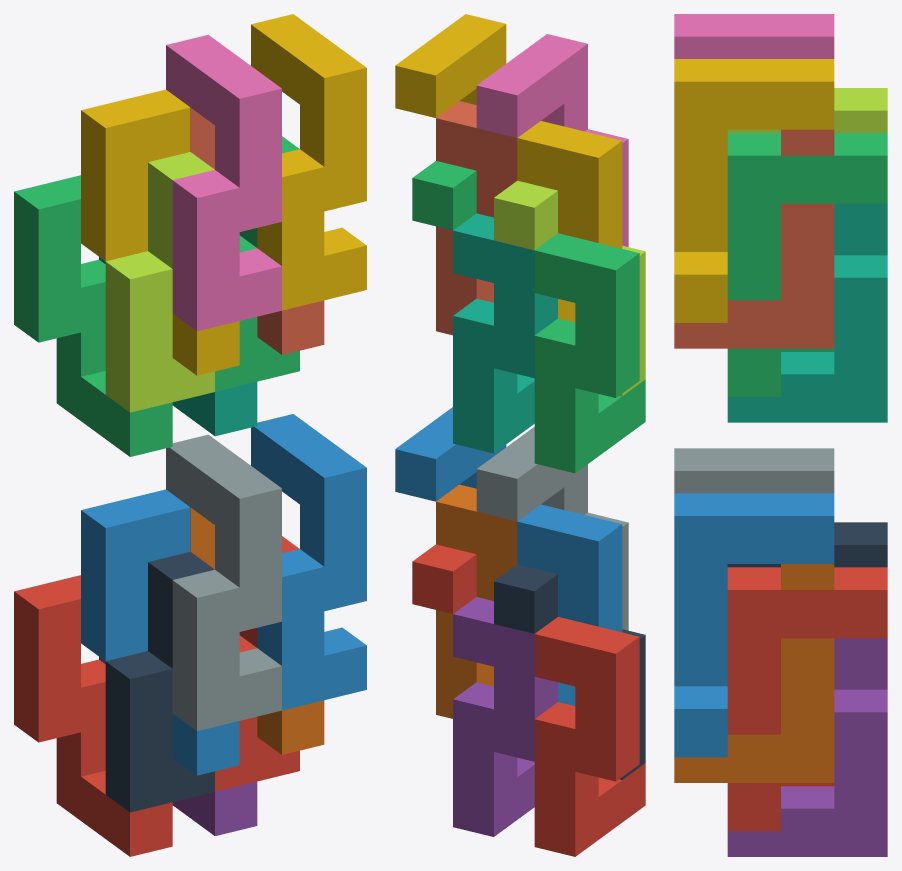
The model's file is tiling.obj.
3 views of the same model, side by side, from view 1: azimuth 30°, elevation 25°; view 2: azimuth 150°, elevation 25°; view 3: azimuth 270°, elevation 25° (orthographic). The views are drawn at different scales.
Visible parts, largest first — view 1: copy_2_domain_4, copy_2_domain_2, copy_2_domain_8, copy_2_domain_6, copy_1_domain_3, copy_1_domain_1, copy_1_domain_4, copy_1_domain_2, copy_2_domain_3, copy_2_domain_1, copy_1_domain_8, copy_1_domain_6 (+4 smaller); view 2: copy_1_domain_1, copy_1_domain_3, copy_1_domain_7, copy_1_domain_5, copy_1_domain_4, copy_1_domain_2, copy_2_domain_4, copy_1_domain_6, copy_1_domain_8, copy_2_domain_8, copy_2_domain_2, copy_2_domain_6 (+4 smaller); view 3: copy_2_domain_6, copy_2_domain_8, copy_2_domain_5, copy_2_domain_7, copy_1_domain_7, copy_1_domain_5, copy_1_domain_8, copy_1_domain_6, copy_2_domain_2, copy_2_domain_4, copy_2_domain_1, copy_2_domain_3.
Part boxes in pixels (x1=…): copy_2_domain_4: x1=166, y1=34, x2=281, y2=331; copy_2_domain_2: x1=166, y1=434, x2=281, y2=731; copy_2_domain_8: x1=251, y1=14, x2=366, y2=310; copy_2_domain_6: x1=251, y1=414, x2=366, y2=710; copy_1_domain_3: x1=14, y1=175, x2=172, y2=456; copy_1_domain_1: x1=14, y1=575, x2=172, y2=856; copy_1_domain_4: x1=81, y1=89, x2=239, y2=375; copy_1_domain_2: x1=81, y1=489, x2=239, y2=775; copy_2_domain_3: x1=105, y1=152, x2=214, y2=412; copy_2_domain_1: x1=105, y1=552, x2=214, y2=812; copy_1_domain_8: x1=190, y1=108, x2=324, y2=354; copy_1_domain_6: x1=190, y1=508, x2=324, y2=754; copy_1_domain_1: x1=534, y1=617, x2=645, y2=856; copy_1_domain_3: x1=534, y1=233, x2=645, y2=473; copy_1_domain_7: x1=453, y1=213, x2=557, y2=453; copy_1_domain_5: x1=453, y1=597, x2=557, y2=836; copy_1_domain_4: x1=517, y1=121, x2=622, y2=322; copy_1_domain_2: x1=517, y1=504, x2=622, y2=705; copy_2_domain_4: x1=476, y1=34, x2=628, y2=246; copy_1_domain_6: x1=436, y1=484, x2=517, y2=718; copy_1_domain_8: x1=436, y1=101, x2=517, y2=335; copy_2_domain_8: x1=395, y1=14, x2=506, y2=117; copy_2_domain_2: x1=476, y1=427, x2=628, y2=630; copy_2_domain_6: x1=395, y1=407, x2=506, y2=501; copy_2_domain_6: x1=674, y1=493, x2=834, y2=757; copy_2_domain_8: x1=674, y1=59, x2=834, y2=322; copy_2_domain_5: x1=727, y1=567, x2=887, y2=831; copy_2_domain_7: x1=727, y1=133, x2=887, y2=396; copy_1_domain_7: x1=727, y1=203, x2=887, y2=422; copy_1_domain_5: x1=727, y1=638, x2=887, y2=856; copy_1_domain_8: x1=674, y1=129, x2=834, y2=348; copy_1_domain_6: x1=674, y1=564, x2=834, y2=782; copy_2_domain_2: x1=674, y1=448, x2=834, y2=493; copy_2_domain_4: x1=674, y1=14, x2=834, y2=58; copy_2_domain_1: x1=727, y1=522, x2=887, y2=567; copy_2_domain_3: x1=727, y1=88, x2=887, y2=132.
Size of the model in its own units: 6 by 17 by 4.
